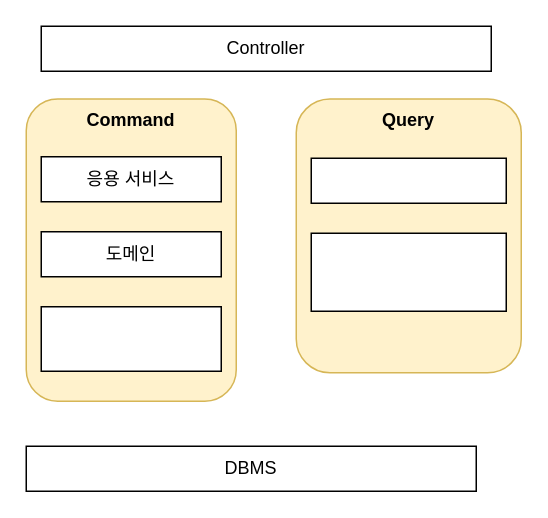
The diagram is 548 pixels wide and 518 high, and some of its shapes have lost their labels. Here are the shapes that lost their labels. From the top down, the centre of each, then its label:
At (408,180): "DTO/DAO".
At (408,271): "인프라 (MyBatis 로 DAO 구현)".
At (130,338): "인프라스트럭처 (JPA Repository 구현)".
